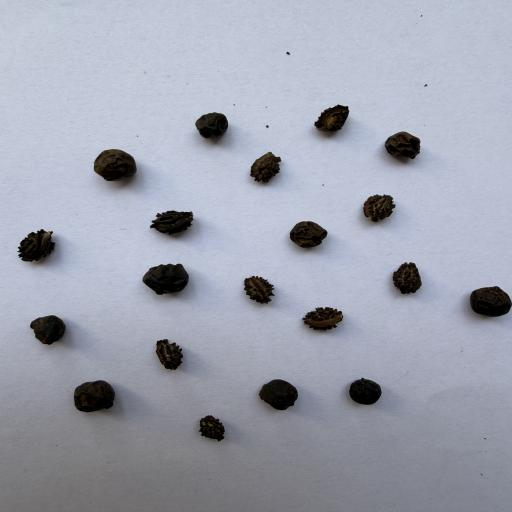Black_pepper: (65, 379, 121, 415), (142, 261, 194, 297), (467, 284, 512, 317), (94, 148, 137, 182), (256, 377, 297, 410), (287, 218, 327, 251), (27, 314, 68, 345), (382, 131, 422, 161), (348, 377, 383, 405), (194, 112, 230, 138)
papaya_seed: (141, 320, 220, 378), (191, 401, 250, 461), (332, 184, 414, 227), (375, 251, 440, 302), (303, 100, 370, 146), (133, 198, 206, 240), (227, 260, 287, 308), (13, 224, 79, 266), (290, 302, 372, 335), (242, 140, 296, 188)
